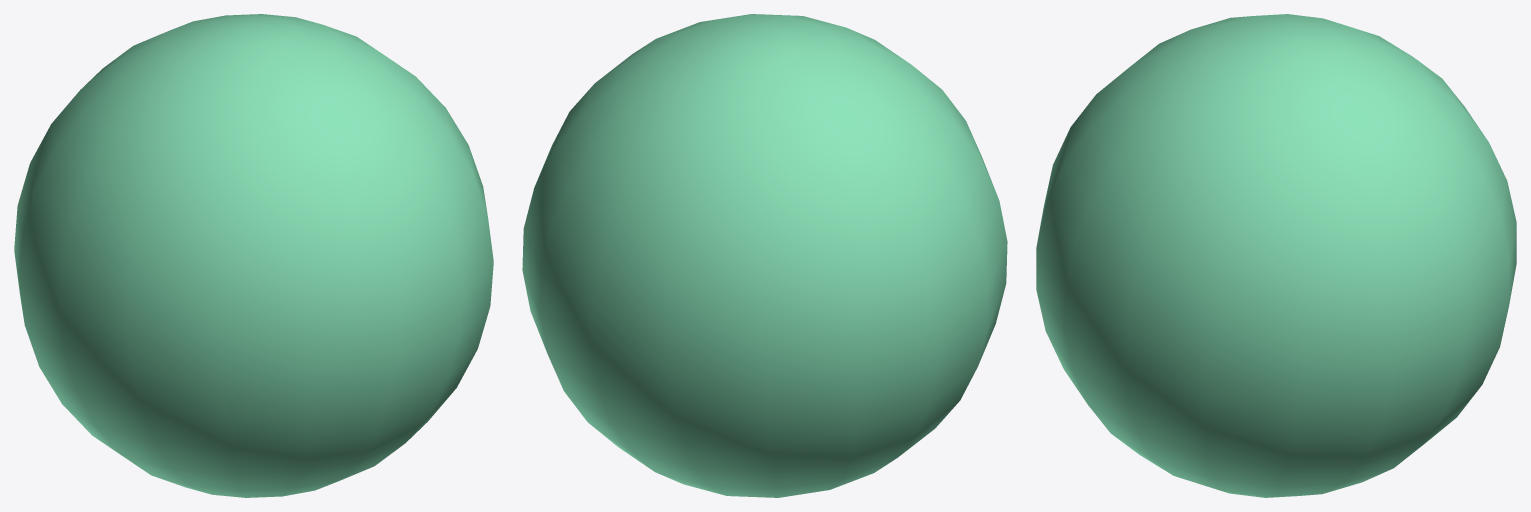
3 renders of one model, left to right at view 1: azimuth 30°, elevation 25°; view 2: azimuth 150°, elevation 25°; view 3: azimuth 270°, elevation 25°, orthographic.
Visible parts, largest first — view 1: orb2.005; view 2: orb2.005; view 3: orb2.005.
Part boxes in pixels (x1,y1,x2,y2): orb2.005: (14,14,493,497); orb2.005: (522,14,1007,497); orb2.005: (1036,14,1516,497).
Bounding box in the file's own units: 0.397 × 0.3982 × 0.3954.
